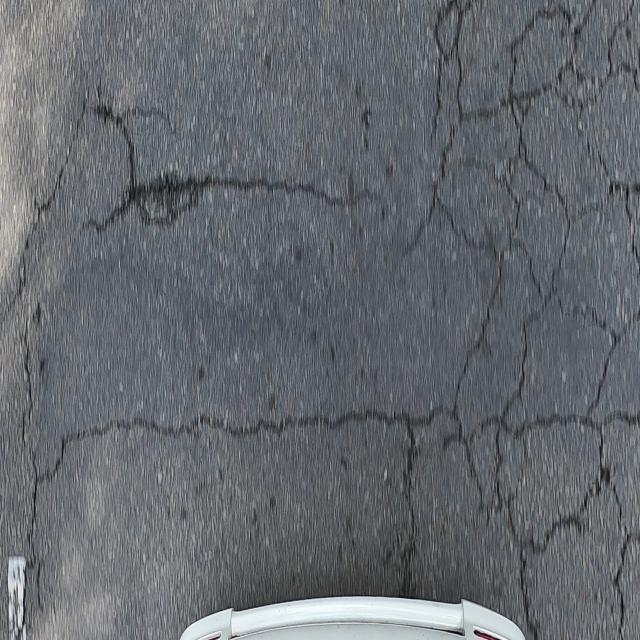Retak-Buaya: (430, 0, 640, 640)
Retak-Melintang: (41, 407, 452, 480), (88, 177, 369, 229)
Retak-Memanjang: (7, 93, 89, 306), (15, 325, 39, 637)
